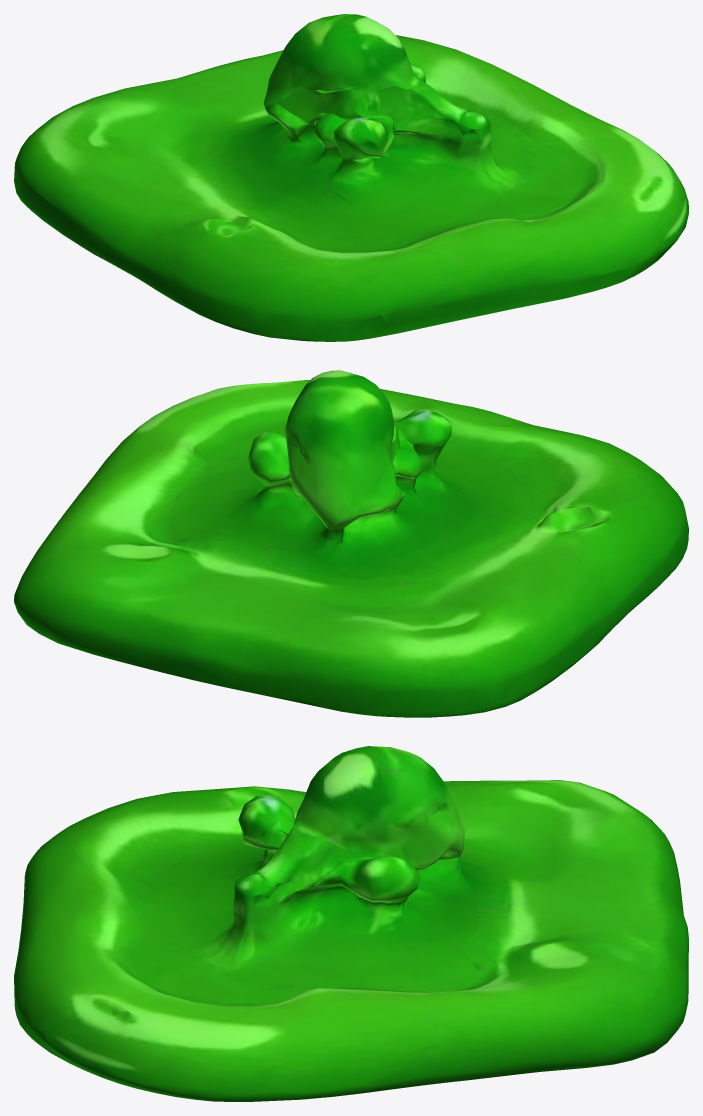
The model's file is m2AlienGooPuddle.glb.
3 renders of one model, top to bottom at view 1: azimuth 30°, elevation 25°; view 2: azimuth 150°, elevation 25°; view 3: azimuth 270°, elevation 25°, orthographic. The views are drawn at different scales.
Parts seen in each view (by area): view 1: model; view 2: model; view 3: model.
Boxes of the visible parts, bbox=[...] form: model: bbox=[14, 14, 688, 341]; model: bbox=[14, 370, 688, 717]; model: bbox=[14, 746, 688, 1101].
Bounding box in the file's own units: 1.89 × 0.6511 × 1.88.
1 material, 1 textured.
